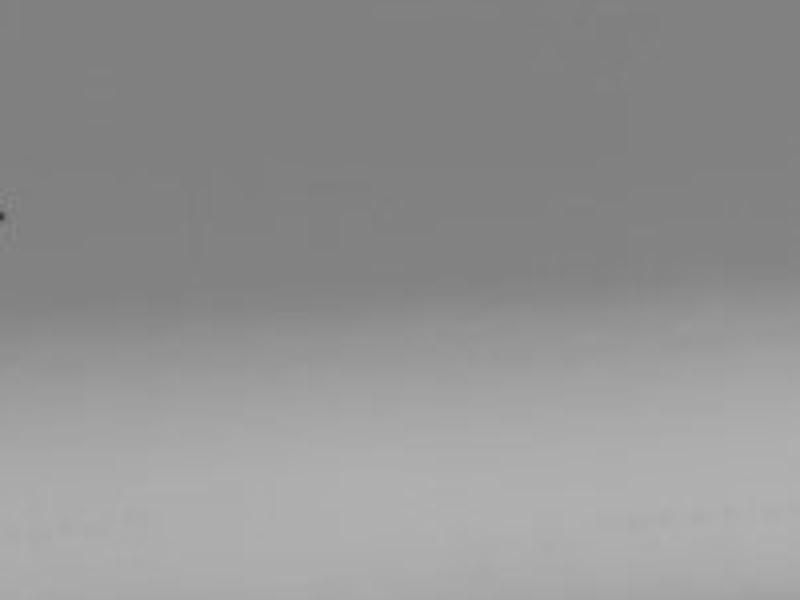defect: (1, 213, 8, 225)
